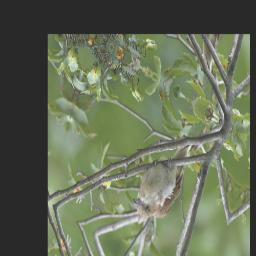Cuckoo: (130, 119, 194, 237)
